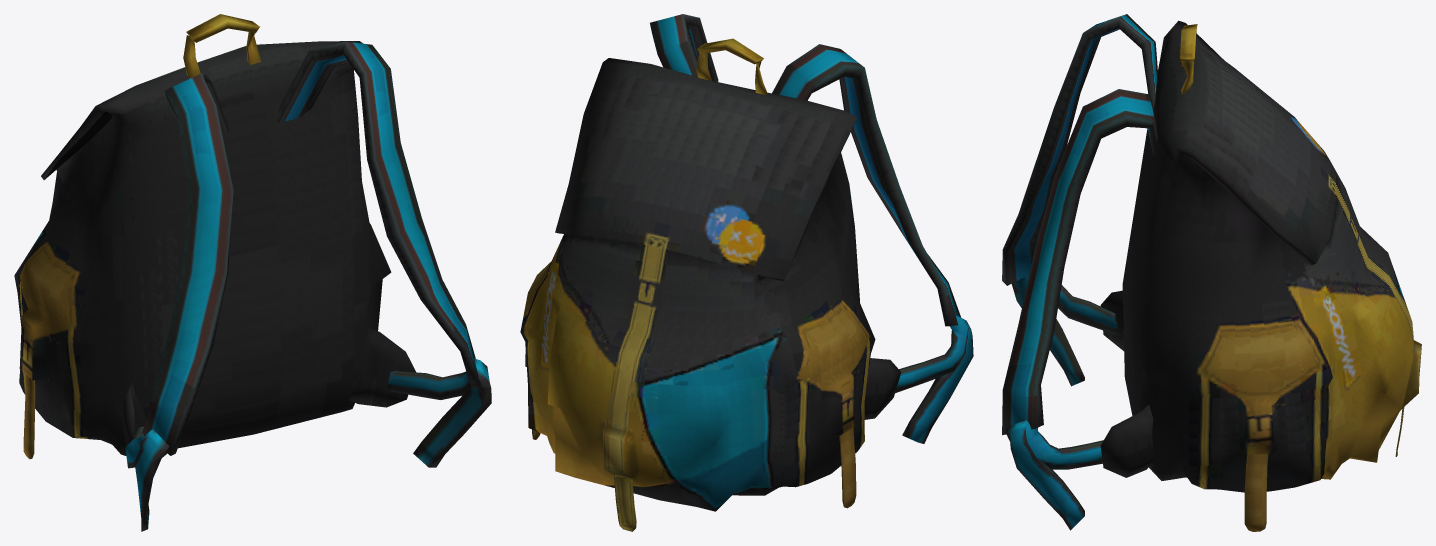
The model's file is ff_bagpack_yellow.fbx.
3 renders of one model, left to right at view 1: azimuth 30°, elevation 25°; view 2: azimuth 150°, elevation 25°; view 3: azimuth 270°, elevation 25°, orthographic. The views are drawn at different scales.
Parts seen in each view (by area): view 1: Model; view 2: Model; view 3: Model.
Boxes of the visible parts, x1,y1,x2,y2 form: Model: (14,14,491,531); Model: (520,14,973,531); Model: (1002,14,1421,531).
Bounding box in the file's own units: 33.8 × 41.15 × 36.49.
Materials: 1 (1 with a texture image).
